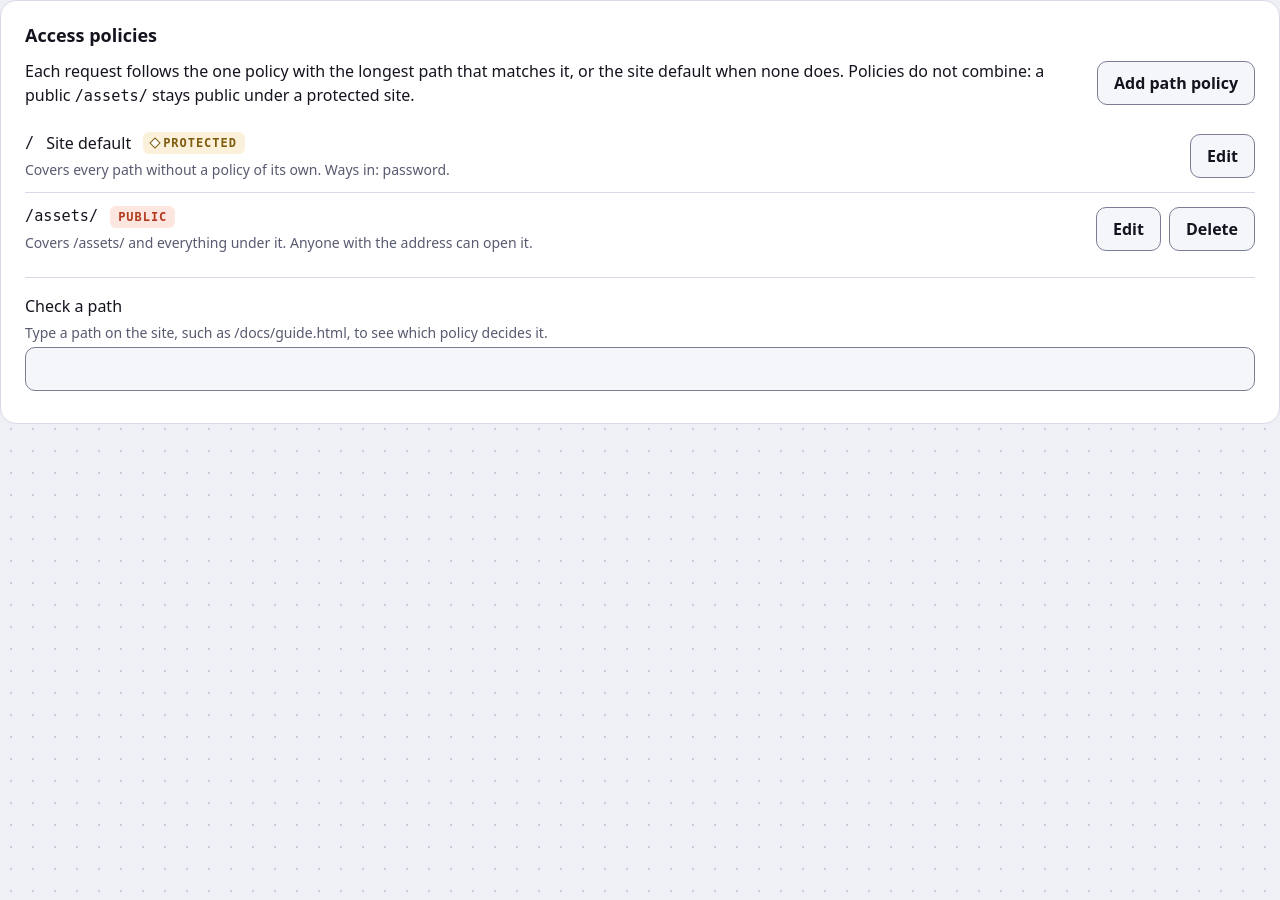
Test: access policies card › names each visibility with the site page’s access word
Expected: the element with class "wl-ward" is shown, left=150, top=138, right=161, bottom=149
Step 1. Type "/assets/x" into the field labelled "Check a path" → (640,369), box left=25, top=347, right=1255, bottom=391
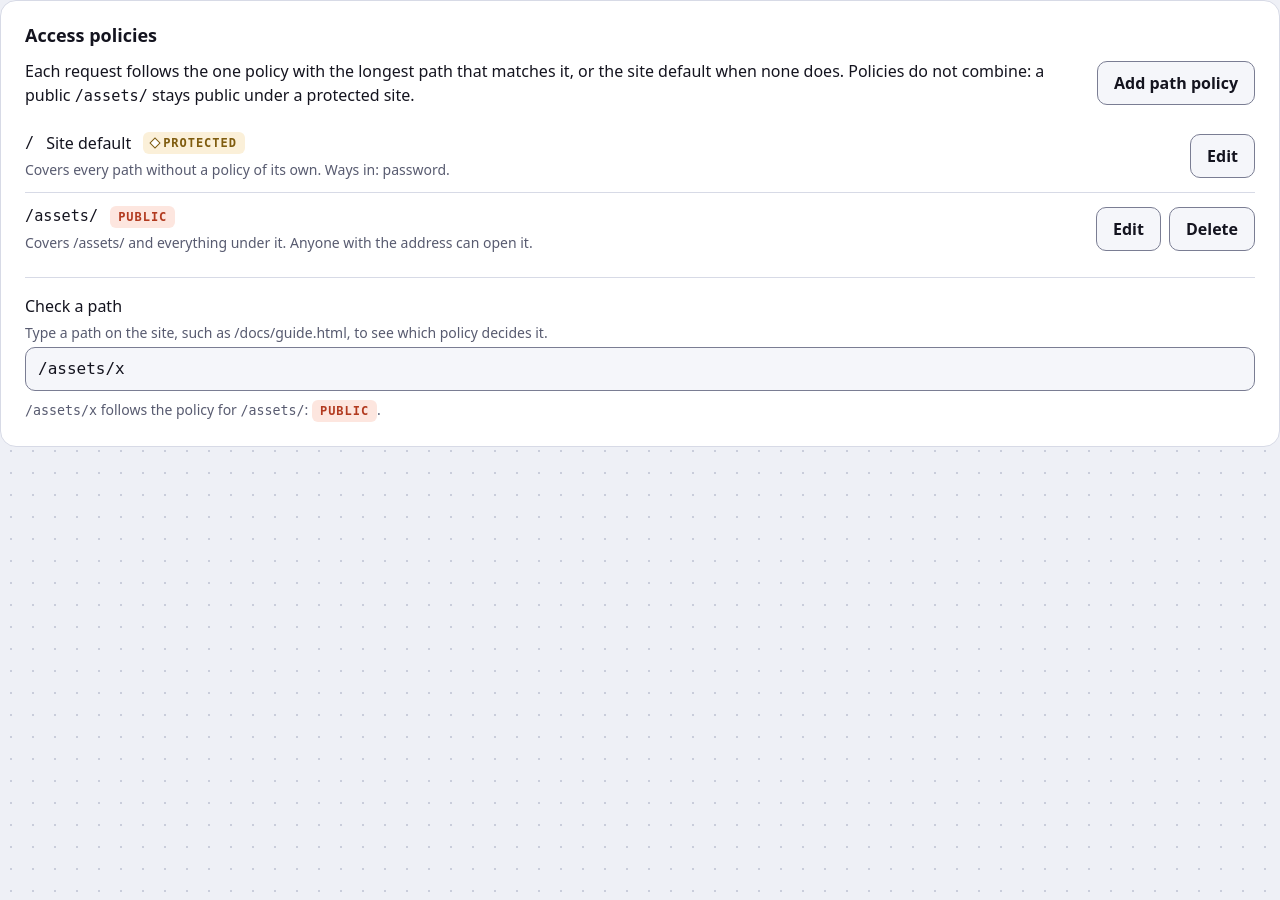
Expected: the text with class "wl-status-tag-public" in the row of "the policy for" is shown, left=312, top=400, right=377, bottom=422
